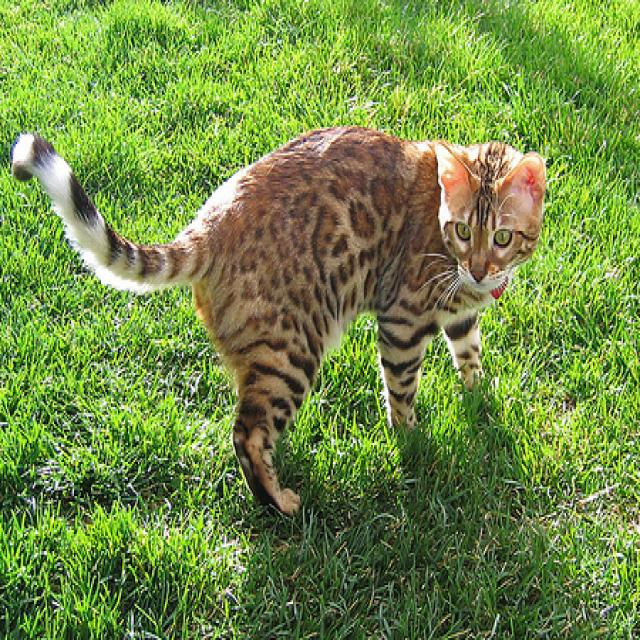Bengal: (5, 104, 552, 529)
